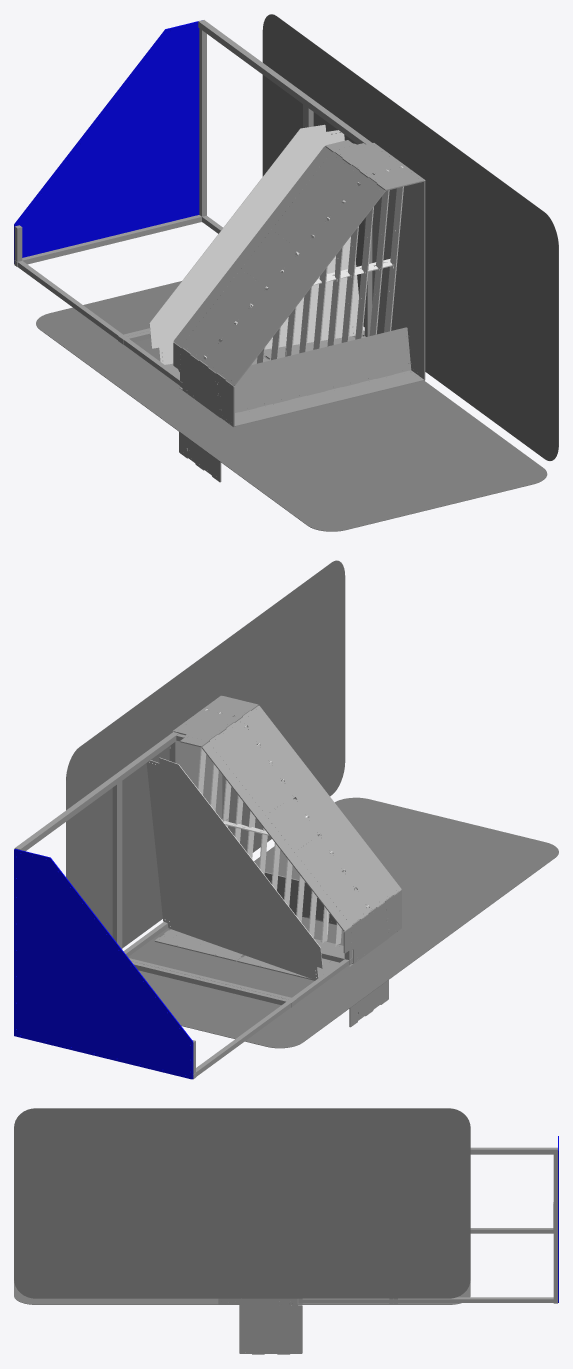
File: HydrogenFilter_FBX.fbx
3 views of the same model, one above another, from view 1: azimuth 30°, elevation 25°; view 2: azimuth 150°, elevation 25°; view 3: azimuth 270°, elevation 25° (orthographic). The views are drawn at different scales.
Parts seen in each view (by area): view 1: Body189, Body10, Body3055046736196950033, Body3055046736196949864, Body3055046736196949614, Body3055046736196949813, Body3055046736196949620, Body3055046736196949654, Body3055046736196949823, Body3055046736196949797, pCube1, pCube6 (+7 smaller); view 2: Body189, Body10, Body3055046736196950033, Body3055046736196949614, Body3055046736196949864, Body3055046736196949654, Body3055046736196949797, pCube1, pCube6, Body3055046736196949620, pCube4, pCube9 (+3 smaller); view 3: Body189, Body3055046736196949620, Body10, pCube2, pCube3, pCube1, pCube6.
Boxes of the visible parts, <box> form: Body189: <box>262,14,558,460</box>; Body10: <box>36,281,547,531</box>; Body3055046736196950033: <box>14,21,199,263</box>; Body3055046736196949864: <box>173,146,385,385</box>; Body3055046736196949614: <box>149,124,358,364</box>; Body3055046736196949813: <box>217,327,411,412</box>; Body3055046736196949620: <box>372,143,425,380</box>; Body3055046736196949654: <box>173,342,234,482</box>; Body3055046736196949823: <box>225,370,423,426</box>; Body3055046736196949797: <box>325,140,423,190</box>; pCube1: <box>198,20,371,144</box>; pCube6: <box>17,261,179,385</box>; Body189: <box>66,560,345,948</box>; Body10: <box>128,797,558,1048</box>; Body3055046736196950033: <box>14,849,193,1079</box>; Body3055046736196949614: <box>146,757,322,980</box>; Body3055046736196949864: <box>201,705,401,931</box>; Body3055046736196949654: <box>343,890,401,1027</box>; Body3055046736196949797: <box>174,696,258,747</box>; pCube1: <box>15,732,178,851</box>; pCube6: <box>196,959,349,1076</box>; Body3055046736196949620: <box>169,695,222,819</box>; pCube4: <box>112,783,119,945</box>; pCube9: <box>131,961,293,1007</box>; Body189: <box>14,1108,470,1298</box>; Body3055046736196949620: <box>218,1298,302,1354</box>; Body10: <box>14,1281,470,1304</box>; pCube2: <box>302,1297,553,1302</box>; pCube3: <box>553,1149,557,1303</box>; pCube1: <box>470,1147,557,1154</box>; pCube6: <box>470,1228,553,1233</box>.
Bounding box in the file's own units: 124 × 160 × 320.
